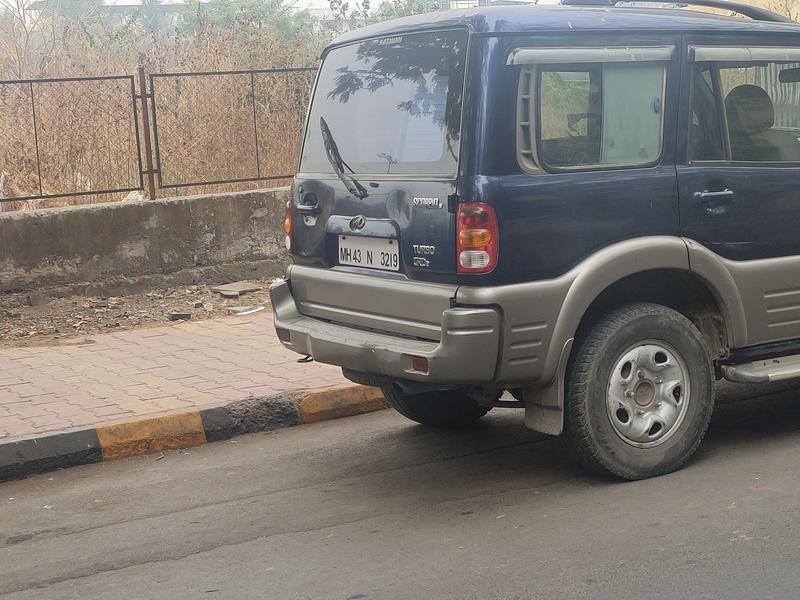license_plate: (326, 229, 405, 278)
